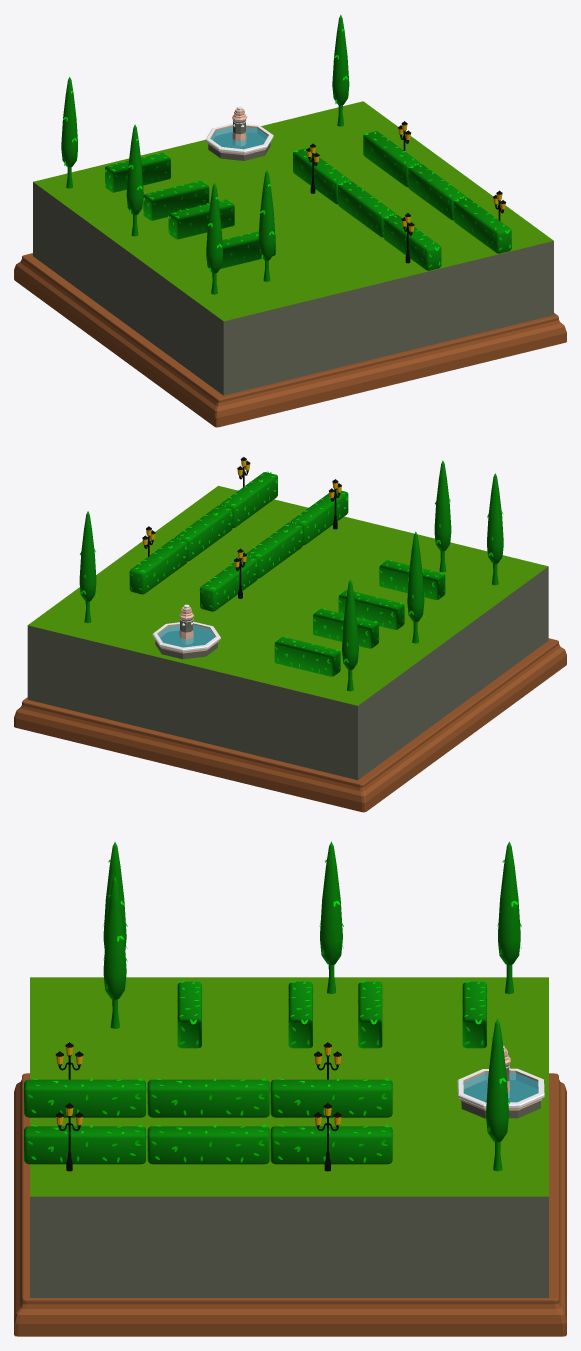
File: Level56.FBX
3 views of the same model, one above another, from view 1: azimuth 30°, elevation 25°; view 2: azimuth 150°, elevation 25°; view 3: azimuth 270°, elevation 25° (orthographic). The views are drawn at different scales.
Visible parts, largest first — view 1: Box159; view 2: Box159; view 3: Box159.
Boxes of the visible parts, x1=… form: Box159: x1=14, y1=14, x2=566, y2=427; Box159: x1=14, y1=457, x2=566, y2=812; Box159: x1=14, y1=841, x2=566, y2=1336.
Bounding box in the file's own units: 336 × 191 × 336.
